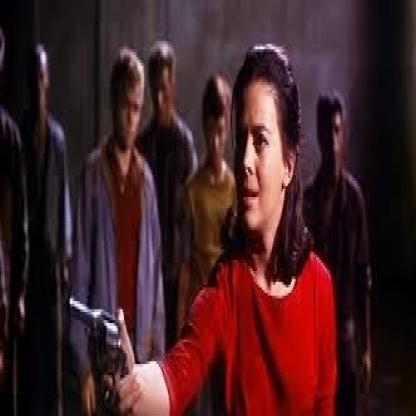Pistol: (56, 287, 128, 404)
